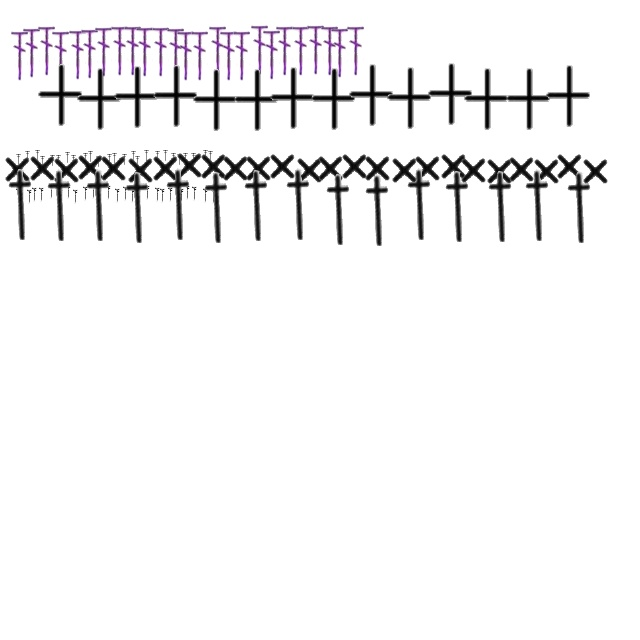double: (74, 68, 124, 132), (308, 68, 358, 132), (346, 64, 396, 128), (150, 66, 200, 128), (190, 70, 240, 132), (384, 68, 434, 130), (36, 64, 84, 128), (112, 66, 160, 130), (462, 68, 510, 132), (504, 68, 552, 132), (232, 70, 280, 132), (268, 68, 316, 130), (426, 64, 474, 126), (544, 66, 592, 128), (28, 152, 58, 184), (52, 154, 82, 186), (126, 154, 156, 186), (244, 152, 274, 184), (268, 150, 298, 182), (316, 152, 346, 184), (340, 150, 370, 182), (390, 154, 420, 186), (76, 152, 106, 182), (532, 156, 562, 186), (100, 152, 128, 184), (152, 152, 180, 184), (200, 150, 228, 182), (222, 152, 250, 184), (296, 154, 324, 186), (364, 152, 392, 184), (414, 152, 442, 184), (440, 150, 468, 182), (460, 154, 488, 186), (556, 150, 584, 182), (4, 154, 32, 184), (176, 150, 204, 180), (486, 156, 514, 186), (508, 154, 536, 184), (582, 156, 610, 186)
double treble: (38, 24, 56, 76), (52, 29, 70, 81), (124, 24, 142, 76), (136, 25, 154, 77), (152, 25, 170, 77), (220, 29, 238, 81), (276, 24, 294, 76), (292, 24, 310, 76), (12, 29, 28, 81), (24, 26, 40, 78), (70, 28, 86, 80), (82, 27, 98, 79), (96, 25, 112, 77), (112, 24, 128, 76), (168, 26, 184, 78), (178, 29, 194, 81), (192, 29, 208, 81), (210, 24, 226, 76), (234, 29, 250, 81), (252, 23, 268, 75), (264, 28, 280, 80), (308, 23, 324, 75), (322, 24, 338, 76), (332, 26, 348, 78), (348, 24, 364, 76), (16, 188, 22, 204), (66, 184, 72, 200), (130, 188, 136, 204), (136, 188, 142, 204), (160, 188, 166, 204), (192, 186, 198, 202), (32, 188, 38, 202), (58, 190, 64, 204), (106, 186, 112, 200), (168, 188, 174, 202), (16, 154, 22, 166), (40, 156, 46, 168), (96, 156, 102, 168), (122, 154, 128, 166), (144, 150, 150, 162), (50, 184, 54, 200), (84, 186, 88, 202), (92, 184, 96, 200), (116, 188, 120, 204), (124, 186, 128, 202), (180, 188, 184, 204), (204, 188, 208, 204), (50, 156, 56, 166), (56, 156, 62, 166), (88, 152, 94, 162), (112, 154, 118, 164), (208, 152, 214, 162), (28, 190, 32, 204), (40, 188, 44, 202), (74, 190, 78, 204), (98, 188, 102, 202), (146, 186, 150, 200), (156, 188, 160, 202), (186, 186, 190, 200), (212, 190, 216, 204), (36, 150, 40, 162), (66, 152, 70, 164), (108, 154, 112, 166), (136, 156, 140, 168), (164, 150, 168, 162), (178, 154, 182, 166), (204, 150, 208, 162), (26, 152, 30, 162), (72, 156, 76, 166), (84, 154, 88, 164), (132, 152, 136, 162), (156, 152, 160, 162), (172, 154, 176, 164), (184, 154, 188, 164), (192, 154, 196, 164)
enseble_chain: (78, 169, 122, 243), (158, 168, 202, 242), (196, 171, 240, 245), (236, 169, 280, 243), (278, 168, 322, 242), (318, 173, 362, 247), (480, 170, 524, 244), (0, 168, 42, 242), (40, 169, 82, 243), (118, 171, 160, 245), (358, 174, 400, 248), (400, 168, 442, 242), (438, 170, 480, 244), (518, 169, 560, 243), (560, 171, 602, 245)
